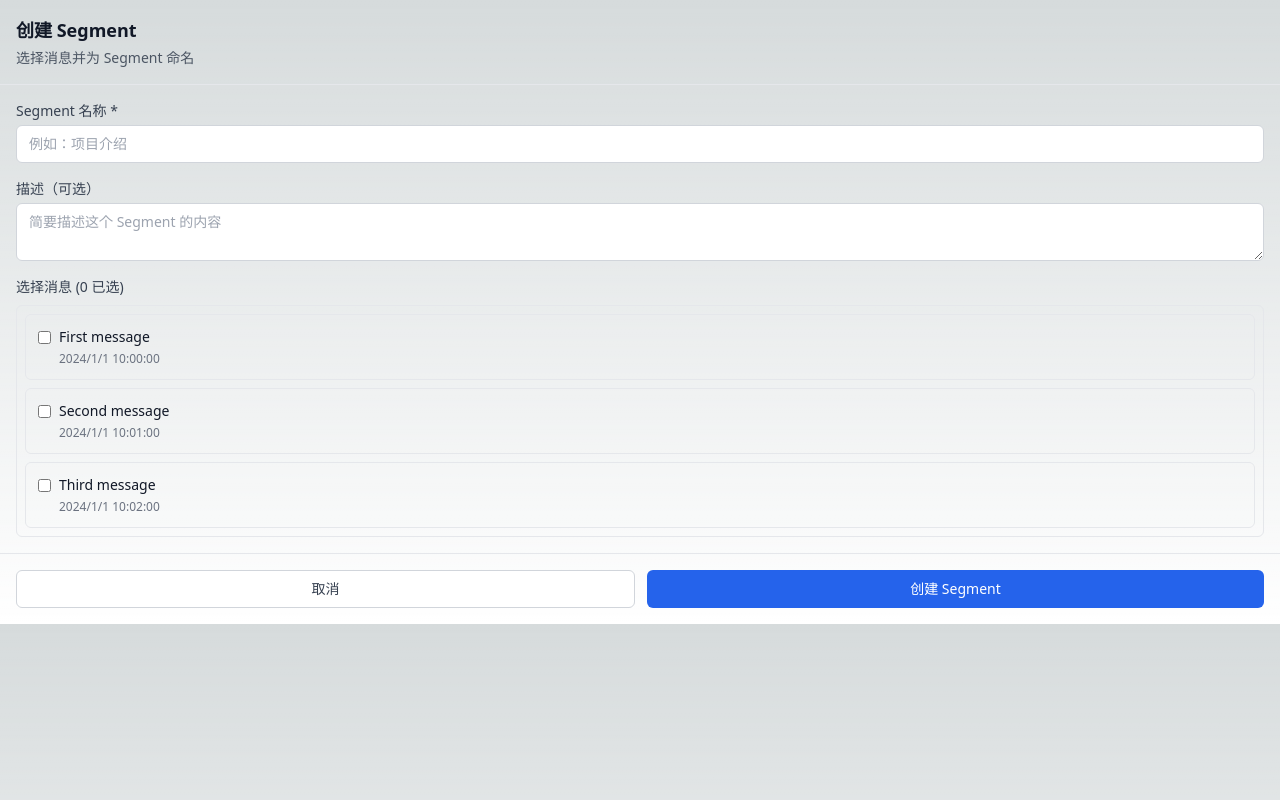
Scenario: SegmentCreator Component › should allow selecting messages
Expected: the text "选择消息 (0 已选)" is shown, x1=16 y1=277 x2=124 y2=296
// Click on first message
Click the text "First message" at (109,347), box x1=59 y1=327 x2=160 y2=367
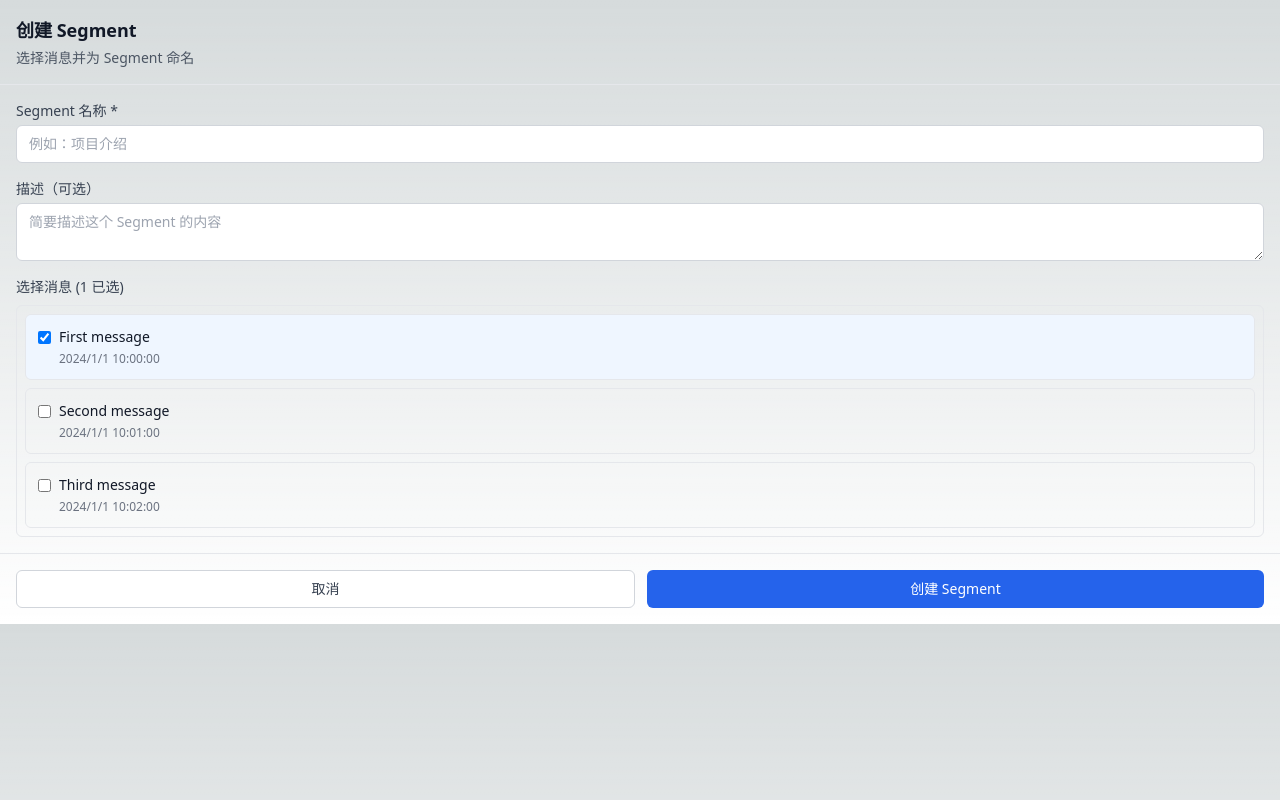
Now the text "选择消息 (1 已选)" is shown, box x1=16 y1=277 x2=124 y2=296
